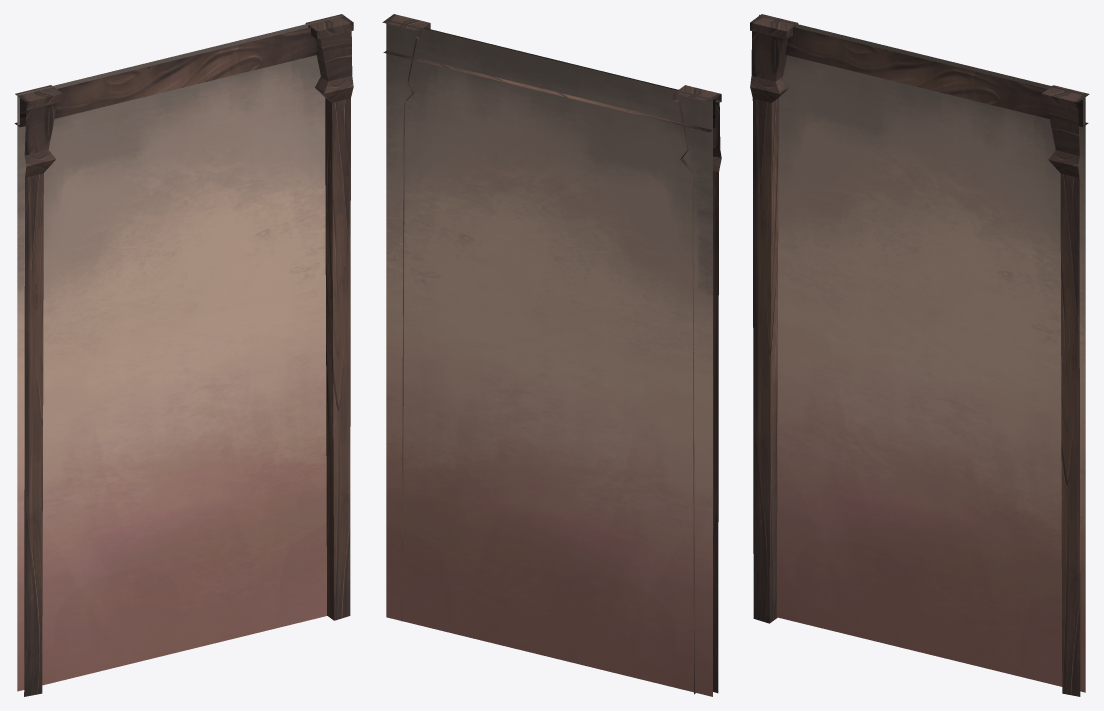
Rendered from Wall_Top_Straight_LOD1.fbx.
3 views of the same model, side by side, from view 1: azimuth 30°, elevation 25°; view 2: azimuth 150°, elevation 25°; view 3: azimuth 330°, elevation 25° (orthographic).
Parts seen in each view (by area): view 1: Straight_Wall_Top_LOD1; view 2: Straight_Wall_Top_LOD1; view 3: Straight_Wall_Top_LOD1.
Part boxes in pixels (x1,y1,x2,y2): Straight_Wall_Top_LOD1: (14,14,353,696); Straight_Wall_Top_LOD1: (382,14,721,696); Straight_Wall_Top_LOD1: (750,14,1089,696).
Bounding box in the file's own units: 0.0241 × 0.0421 × 0.00153.
